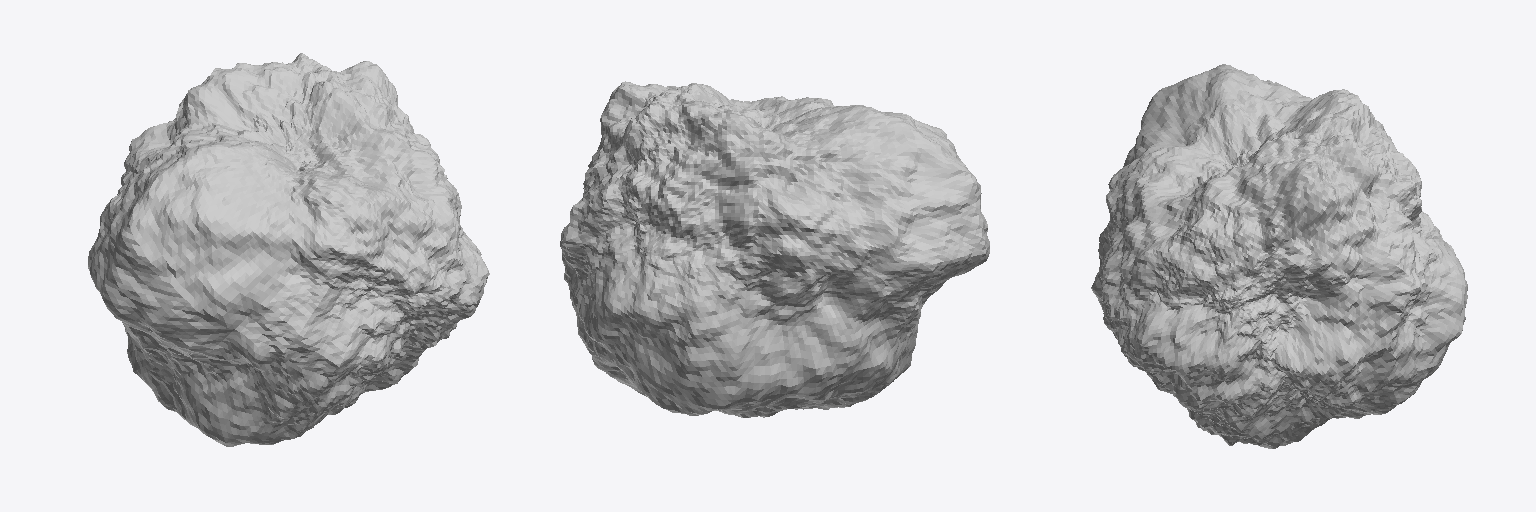
The model's file is asteroid.obj.
The picture shows the model from 3 angles: view 1: azimuth 30°, elevation 25°; view 2: azimuth 150°, elevation 25°; view 3: azimuth 270°, elevation 25°; orthographic projection.
Parts seen in each view (by area): view 1: Cube_Cube.001; view 2: Cube_Cube.001; view 3: Cube_Cube.001.
Boxes of the visible parts, x1,y1,x2,y2 form: Cube_Cube.001: [88, 53, 489, 446]; Cube_Cube.001: [560, 81, 989, 417]; Cube_Cube.001: [1091, 64, 1467, 448].
Bounding box in the file's own units: 3.54 × 2.95 × 3.12.